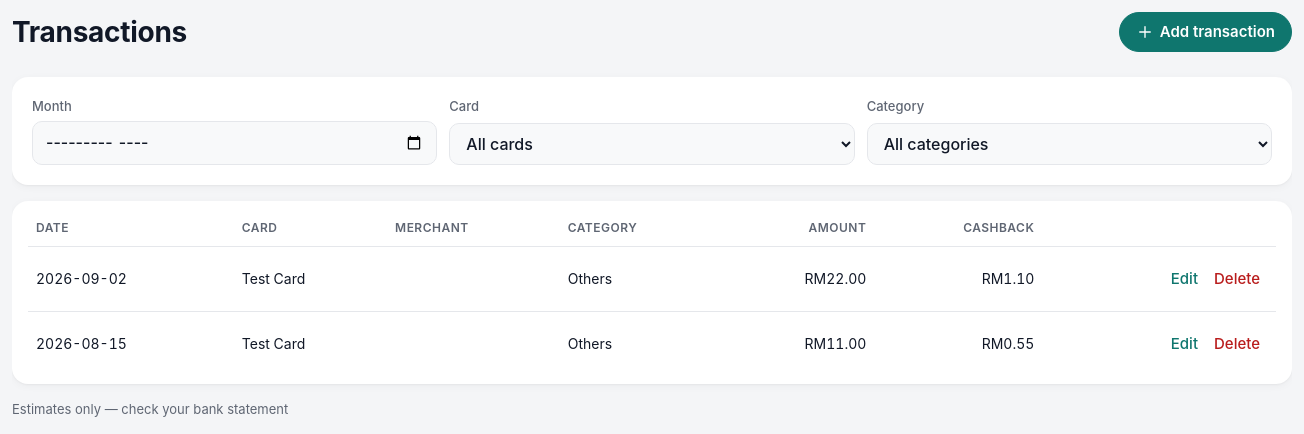
Test: TransactionsPage › filters by a month and clears back to all months
In the field labelled "Month": (235, 143) [32,121,437,165], type "2026-08"
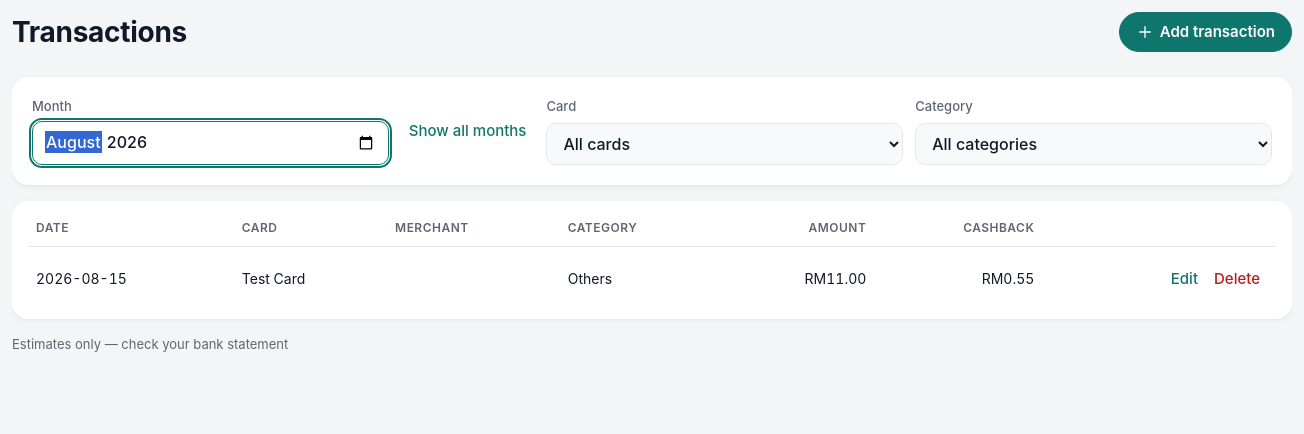
Expected: the text "RM11.00" is shown, [724,246,874,311]
Expected: the text "RM22.00" is gone
Click the button "Show all months": (468, 131) [401,97,534,165]
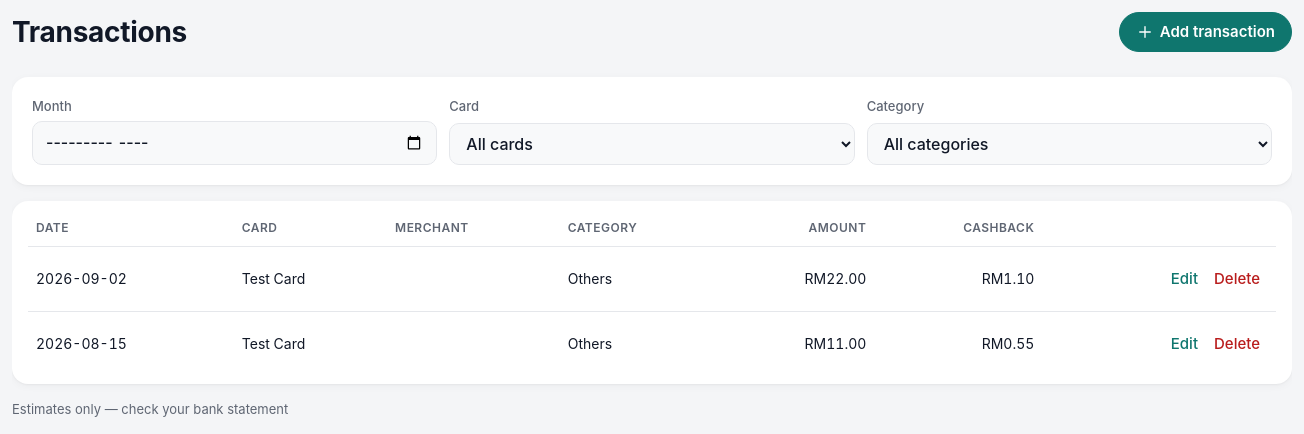
Expected: the field labelled "Month" is empty, [32,121,437,165]
Expected: the text "RM22.00" is shown, [724,246,874,312]
